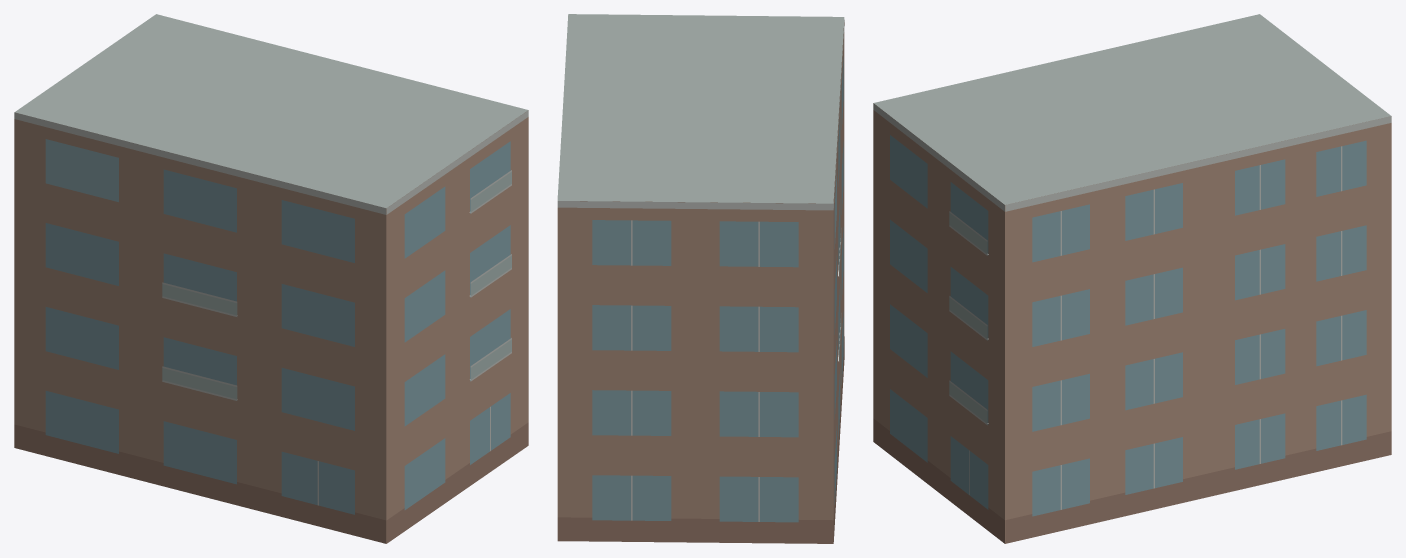
File: residential-85e9fe6b-755f-4a09-a363-4038b226ba37.glb
The picture shows the model from 3 angles, left to right: view 1: azimuth 30°, elevation 25°; view 2: azimuth 150°, elevation 25°; view 3: azimuth 270°, elevation 25°; orthographic projection.
Visible parts, largest first — view 1: residential-85e9fe6b-755f-4a09-a363-4038b226ba37.tmp; view 2: residential-85e9fe6b-755f-4a09-a363-4038b226ba37.tmp; view 3: residential-85e9fe6b-755f-4a09-a363-4038b226ba37.tmp.
Part boxes in pixels (<box>): residential-85e9fe6b-755f-4a09-a363-4038b226ba37.tmp: <box>14,14,528,543</box>; residential-85e9fe6b-755f-4a09-a363-4038b226ba37.tmp: <box>557,14,844,543</box>; residential-85e9fe6b-755f-4a09-a363-4038b226ba37.tmp: <box>873,14,1391,543</box>.
Bounding box in the file's own units: 14.77 × 12.2 × 16.92.
